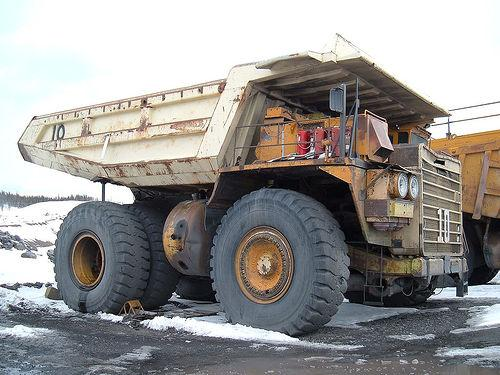truck: (17, 32, 470, 339)
